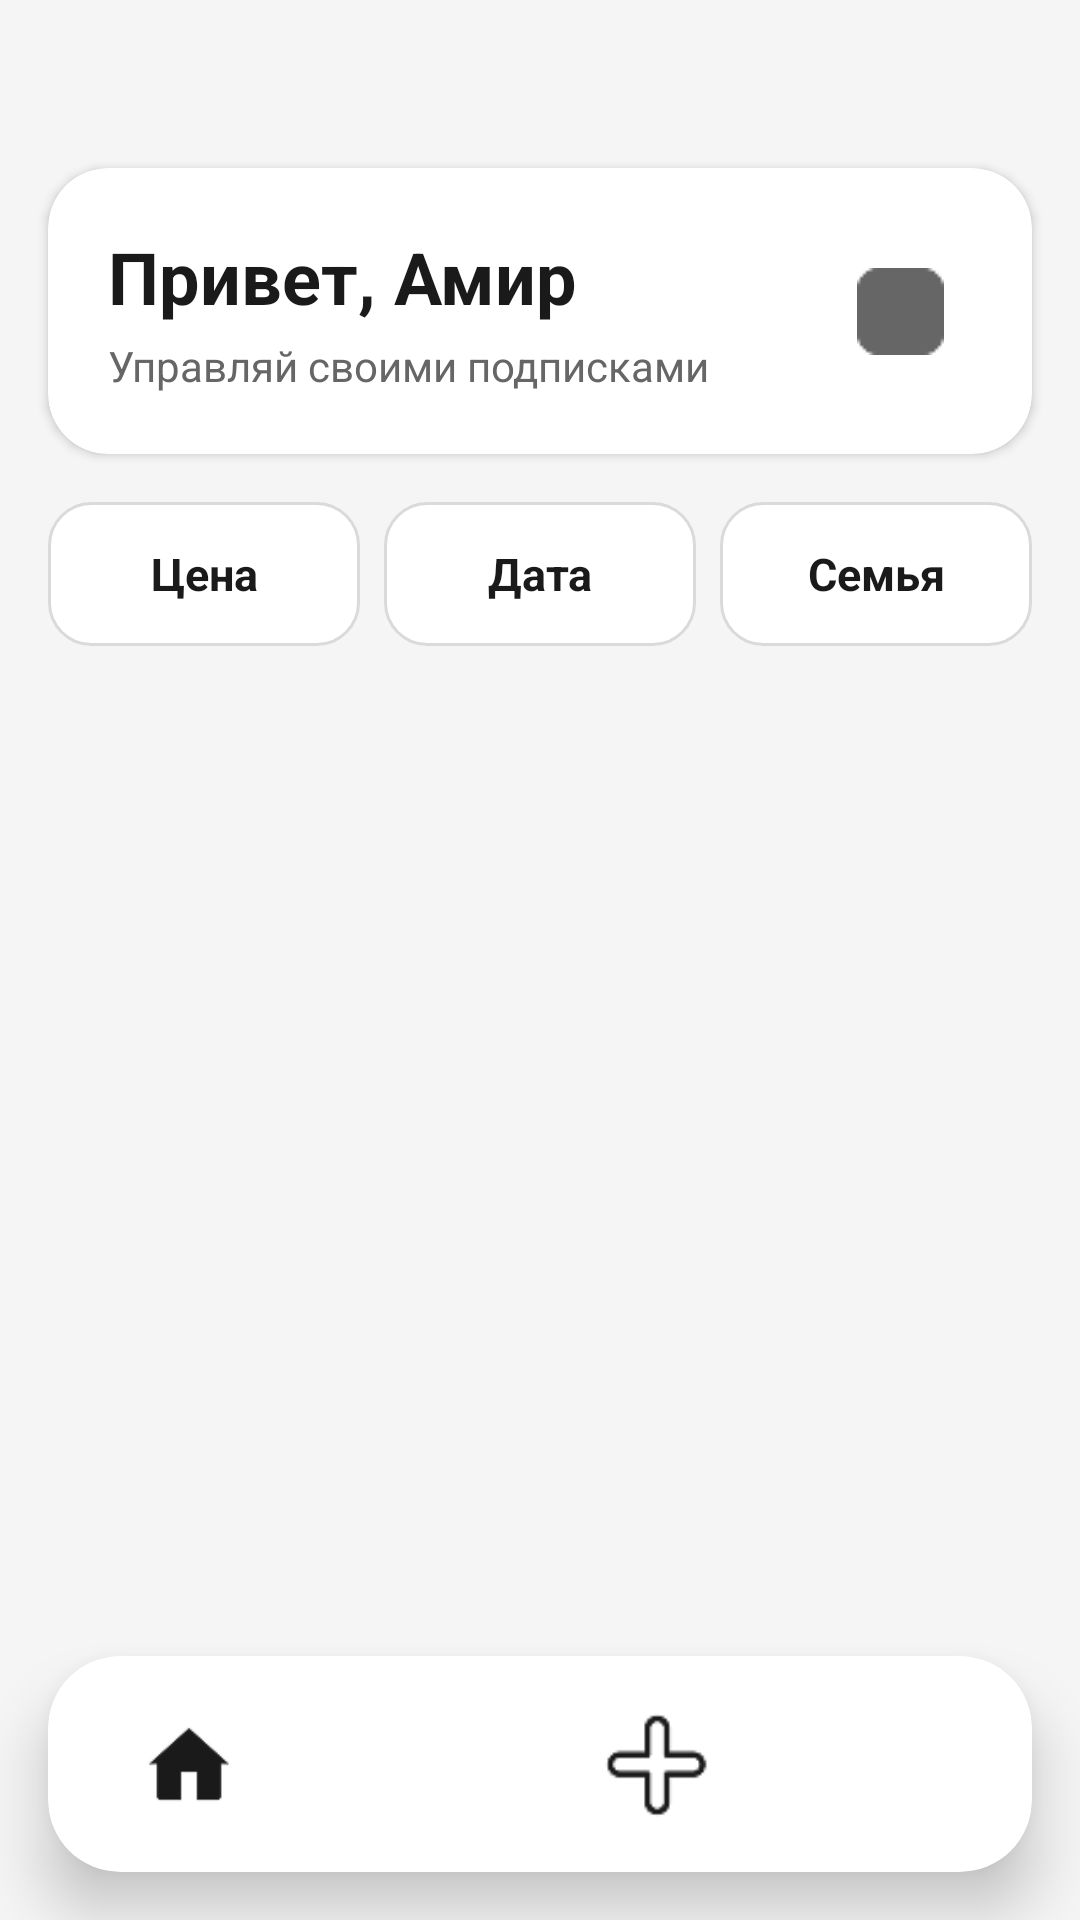

Point at icon controls on the screen. Image size 1080x1920, points as [x,y].
Добавить подписку: [657,1765]
Дом: [189,1764]
